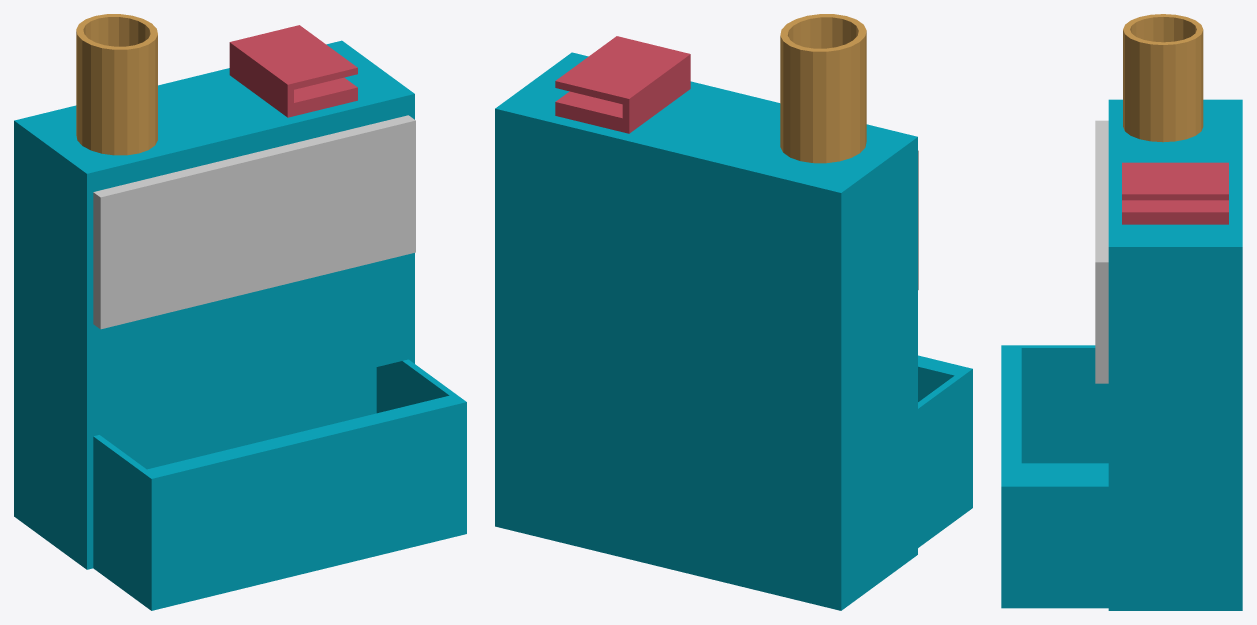
File: project 149.glb
3 views of the same model, side by side, from view 1: azimuth 30°, elevation 25°; view 2: azimuth 150°, elevation 25°; view 3: azimuth 270°, elevation 25° (orthographic). The views are drawn at different scales.
Visible parts, largest first — view 1: Mesh_Mesh_head_geo.001_lambert2SG.001; view 2: Mesh_Mesh_head_geo.001_lambert2SG.001; view 3: Mesh_Mesh_head_geo.001_lambert2SG.001.
Boxes of the visible parts, <box> form: Mesh_Mesh_head_geo.001_lambert2SG.001: <box>14,14,466,610</box>; Mesh_Mesh_head_geo.001_lambert2SG.001: <box>495,14,972,610</box>; Mesh_Mesh_head_geo.001_lambert2SG.001: <box>1001,14,1242,610</box>.
Bounding box in the file's own units: 52 × 76 × 36.
